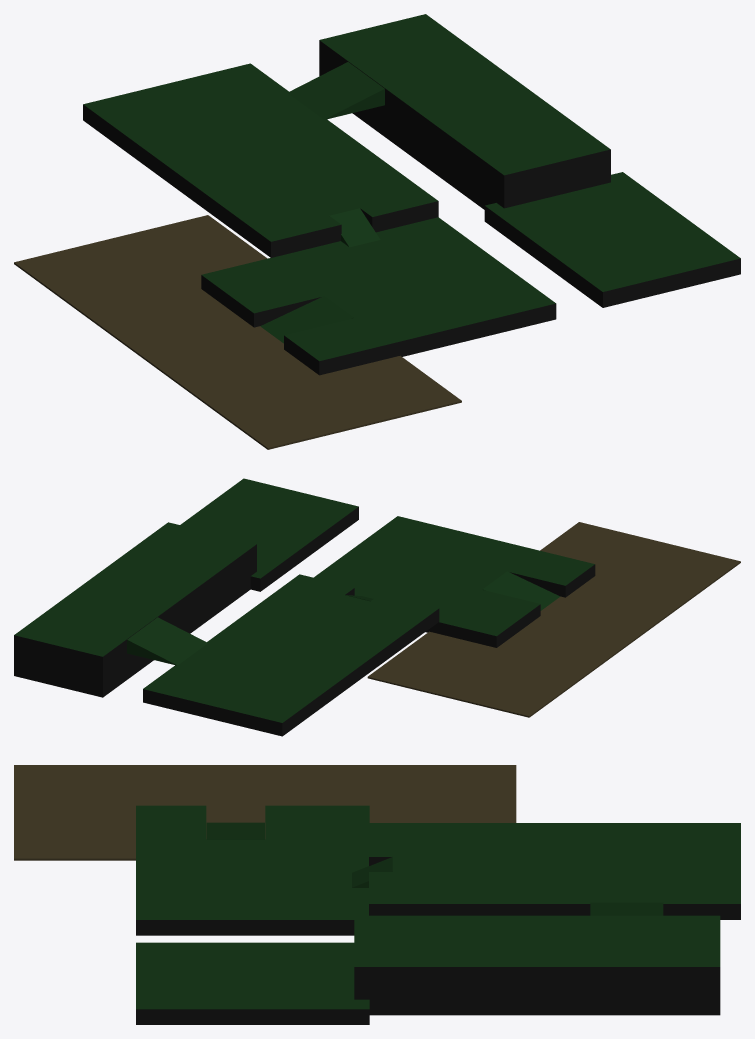
File: Test Land 1.0.fbx
3 renders of one model, top to bottom at view 1: azimuth 30°, elevation 25°; view 2: azimuth 150°, elevation 25°; view 3: azimuth 270°, elevation 25°, orthographic. The views are drawn at different scales.
Parts seen in each view (by area): view 1: Lv0, lv2, lv1, Lv3, lv1.001, Stair.002, Stair, Stair.001; view 2: Lv0, lv2, Lv3, lv1, lv1.001, Stair.002, Stair; view 3: Lv3, lv2, Lv0, lv1, lv1.001, Stair, Stair.002, Stair.001.
Part boxes in pixels (bbox=[...]): Lv0: bbox=[14, 215, 461, 449]; lv2: bbox=[83, 63, 438, 257]; lv1: bbox=[201, 217, 556, 375]; Lv3: bbox=[319, 14, 610, 209]; lv1.001: bbox=[484, 172, 740, 307]; Stair.002: bbox=[287, 62, 384, 119]; Stair: bbox=[260, 296, 353, 343]; Stair.001: bbox=[329, 208, 380, 247]; Lv0: bbox=[367, 522, 740, 717]; lv2: bbox=[143, 574, 439, 736]; Lv3: bbox=[14, 522, 256, 697]; lv1: bbox=[314, 516, 595, 647]; lv1.001: bbox=[180, 478, 358, 591]; Stair.002: bbox=[127, 617, 207, 665]; Stair: bbox=[482, 571, 560, 610]; Lv3: bbox=[354, 915, 720, 1015]; lv2: bbox=[369, 823, 740, 919]; Lv0: bbox=[14, 765, 516, 860]; lv1: bbox=[136, 805, 369, 935]; lv1.001: bbox=[136, 942, 369, 1024]; Stair: bbox=[206, 822, 264, 839]; Stair.002: bbox=[590, 902, 663, 915]; Stair.001: bbox=[352, 856, 392, 887].
Bounding box in the file's own units: 15043 × 12641 × 1106.
